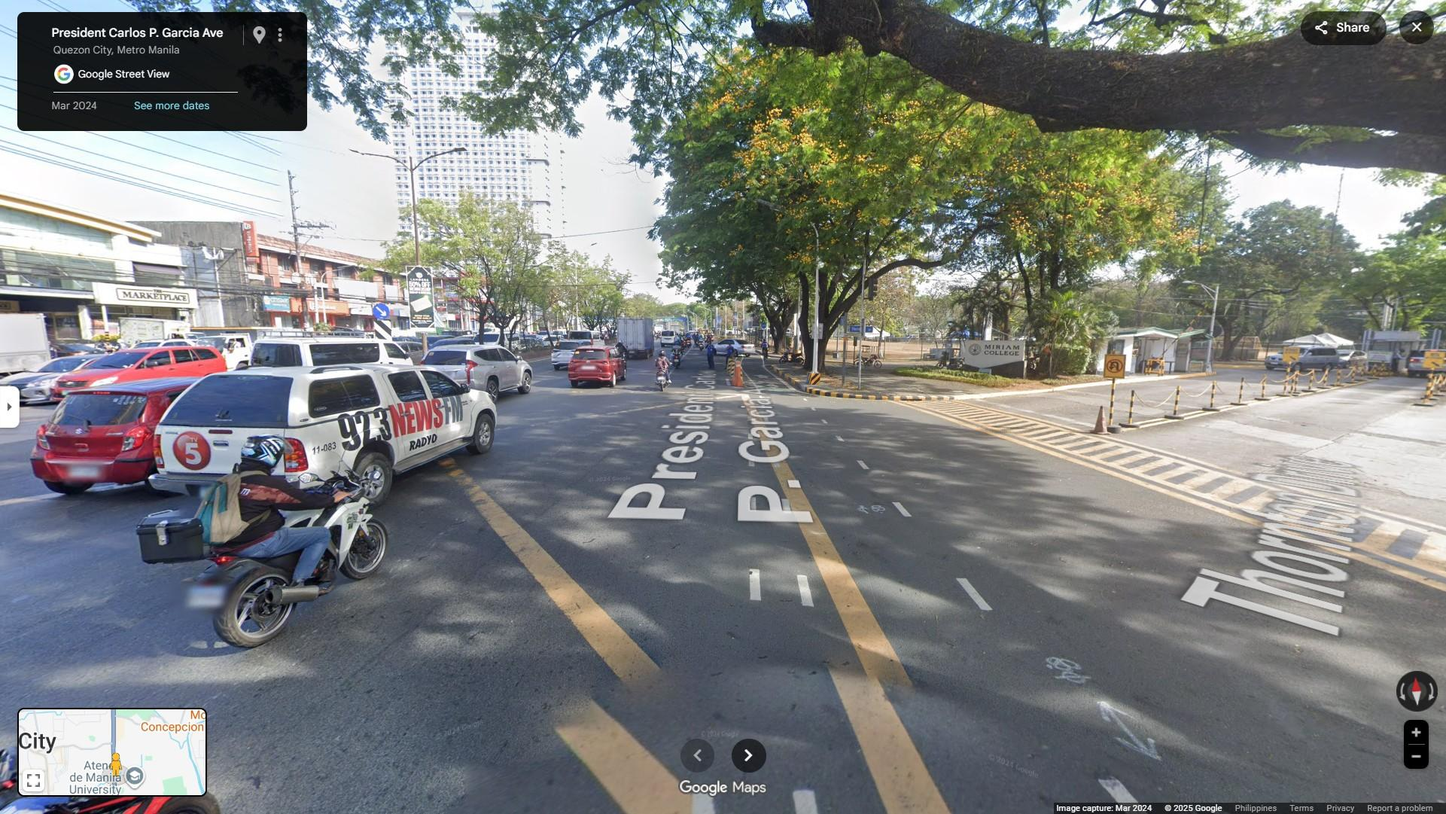cyclist: (760, 337, 770, 362)
pedestrian: (1391, 347, 1405, 375), (705, 339, 717, 370), (724, 342, 736, 371)
